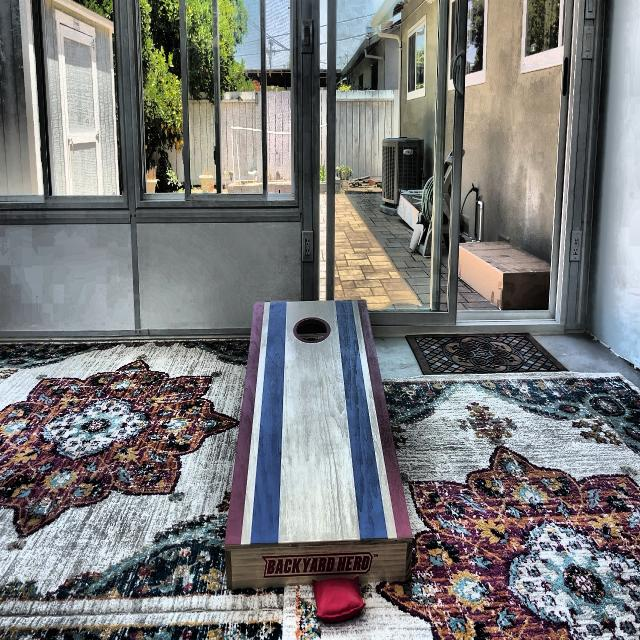board: (249, 301, 375, 541)
hole: (292, 316, 330, 343)
red-bean-bag: (311, 577, 365, 622)
